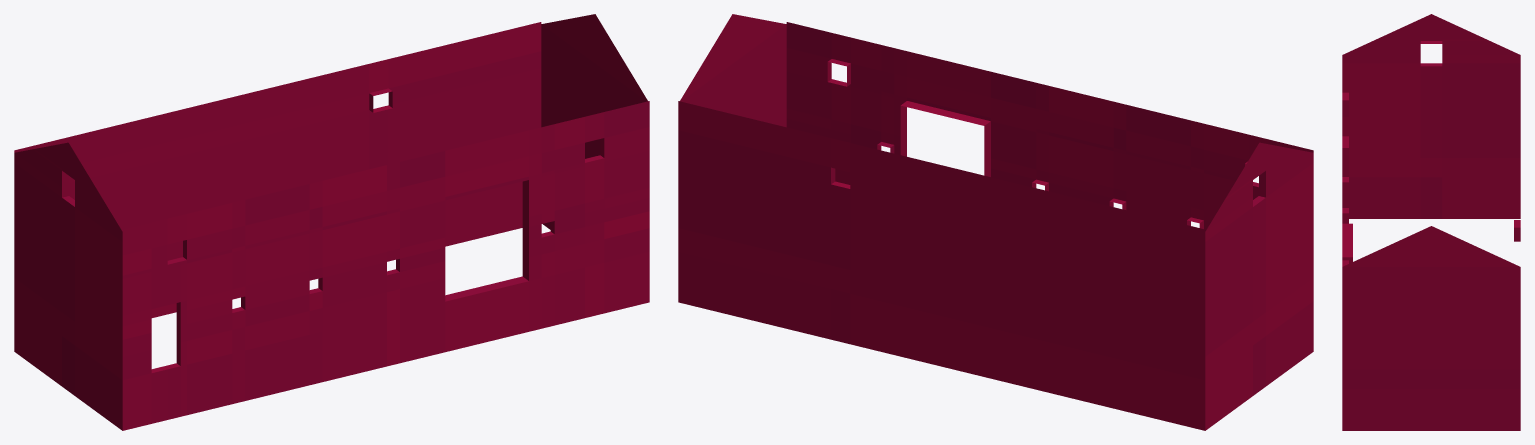
File: SM_Bld_016_Masonry.glb
3 renders of one model, left to right at view 1: azimuth 30°, elevation 25°; view 2: azimuth 150°, elevation 25°; view 3: azimuth 270°, elevation 25°, orthographic. The views are drawn at different scales.
Visible parts, largest first — view 1: SM_Bld_016_Masonry; view 2: SM_Bld_016_Masonry; view 3: SM_Bld_016_Masonry.
Boxes of the visible parts, x1,y1,x2,y2 form: SM_Bld_016_Masonry: (14,14,649,430); SM_Bld_016_Masonry: (678,14,1313,430); SM_Bld_016_Masonry: (1342,14,1520,430).
Size of the model in its own units: 16.34 by 7.38 by 5.81.
